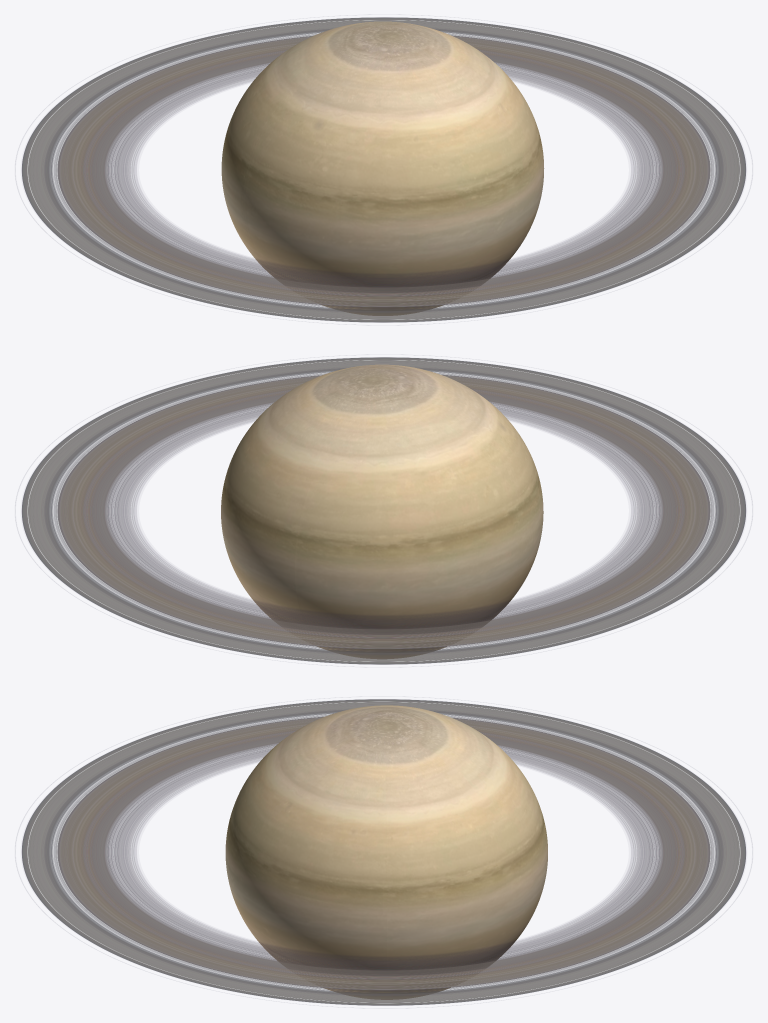
File: saturn.glb
3 views of the same model, one above another, from view 1: azimuth 30°, elevation 25°; view 2: azimuth 150°, elevation 25°; view 3: azimuth 270°, elevation 25° (orthographic).
Visible parts, largest first — view 1: 3DSMeshMatrix (×8); view 2: 3DSMeshMatrix (×8); view 3: 3DSMeshMatrix (×7).
Boxes of the visible parts, x1,y1,x2,y2 form: 3DSMeshMatrix (×8): [21, 17, 746, 322]; 3DSMeshMatrix (×8): [21, 357, 746, 664]; 3DSMeshMatrix (×7): [21, 699, 746, 1005].
Bounding box in the file's own units: 935 × 364 × 935.
2 materials, 2 textured.
